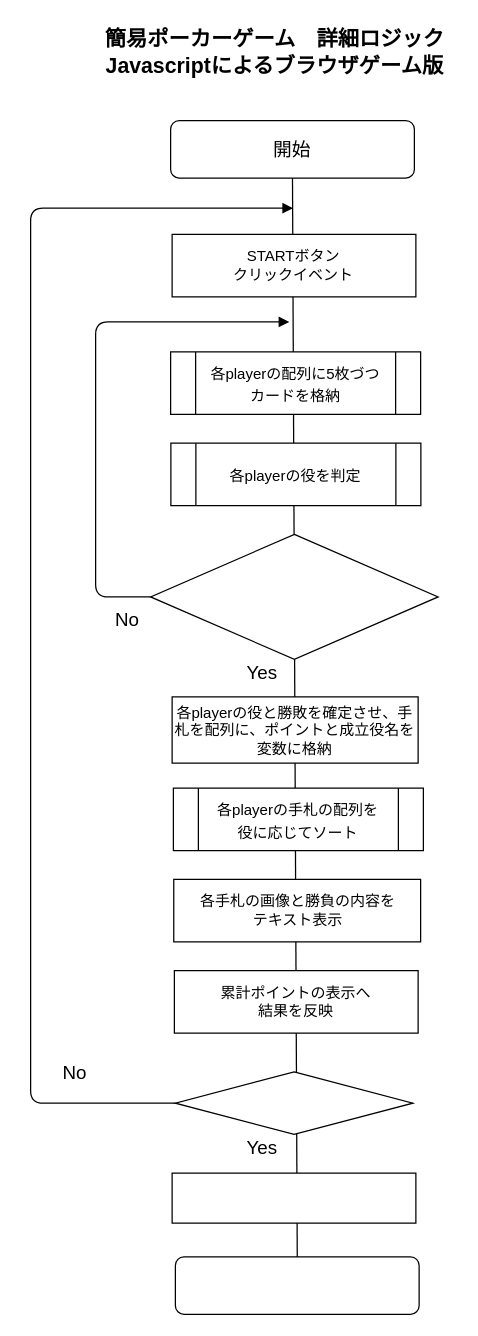
The diagram is 478 pixels wide and 1336 high, and some of its shapes have lost their labels. Each missing label, with the centre of its shape:
"どちらかに規定ポイント以上の 役が成立しているか？ または、規定回数ループしたか？" goes at pixel 293 596.
"勝負回数５回目？" goes at pixel 293 1102.
"最終結果発表" goes at pixel 293 1197.
"終了" goes at pixel 296 1285.
